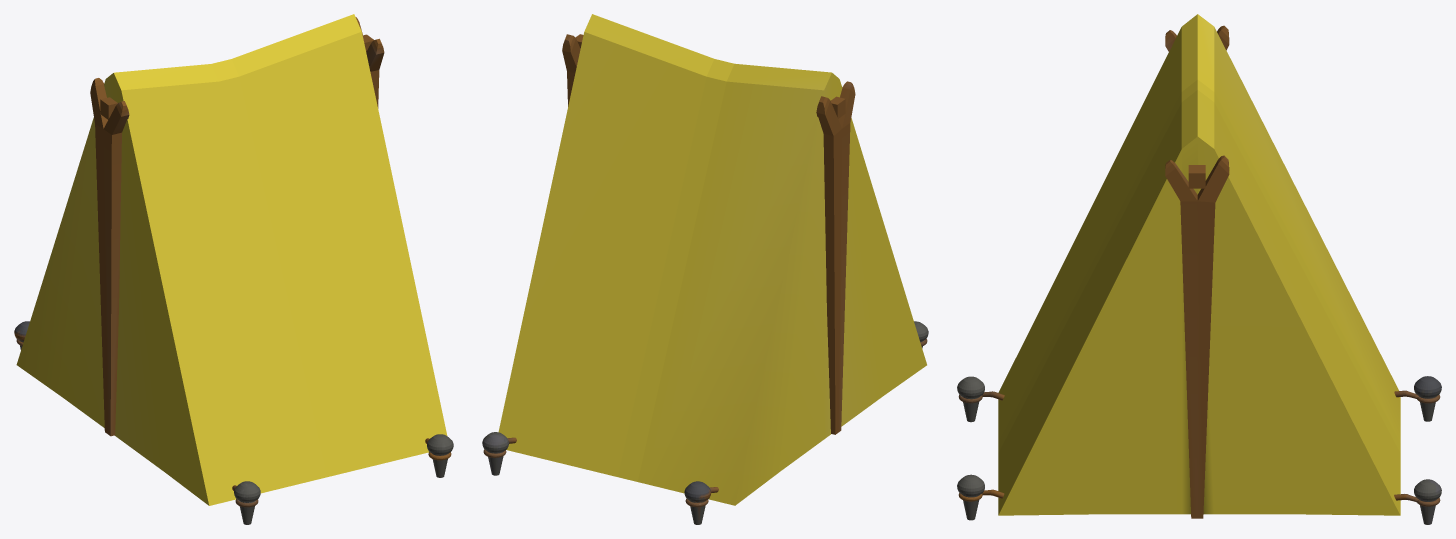
The model's file is CabanaAmarela.fbx.
The picture shows the model from 3 angles, left to right: view 1: azimuth 30°, elevation 25°; view 2: azimuth 150°, elevation 25°; view 3: azimuth 270°, elevation 25°; orthographic projection. The views are drawn at different scales.
Parts seen in each view (by area): view 1: Cabana Amarela; view 2: Cabana Amarela; view 3: Cabana Amarela.
Part boxes in pixels (bbox=[...]): Cabana Amarela: bbox=[14, 14, 453, 524]; Cabana Amarela: bbox=[482, 14, 928, 524]; Cabana Amarela: bbox=[957, 14, 1441, 524].
Size of the model in its own units: 302 by 406 by 454.
